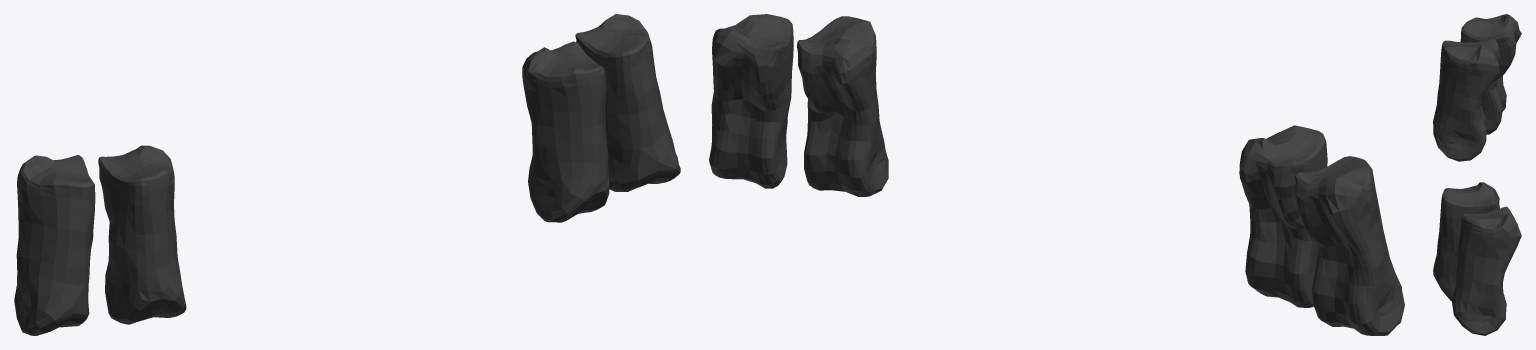
3 renders of one model, left to right at view 1: azimuth 30°, elevation 25°; view 2: azimuth 150°, elevation 25°; view 3: azimuth 270°, elevation 25°, orthographic. The views are drawn at different scales.
Parts seen in each view (by area): view 1: b_FL_P1_L_LO; view 2: b_FL_P1_L_LO; view 3: b_FL_P1_L_LO.
Boxes of the visible parts, x1=… form: b_FL_P1_L_LO: x1=14, y1=14, x2=680, y2=335; b_FL_P1_L_LO: x1=709, y1=14, x2=1404, y2=335; b_FL_P1_L_LO: x1=1433, y1=14, x2=1521, y2=335.
Bounding box in the file's own units: 0.00342 × 0.000817 × 0.000576.
1 material, 1 textured.
